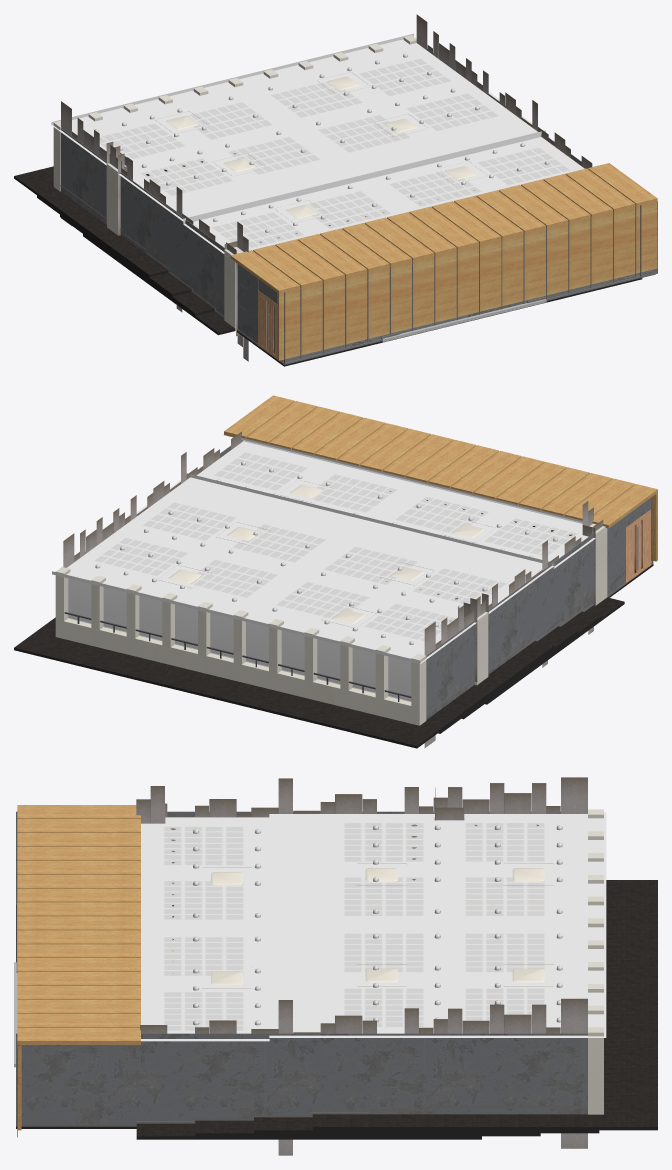
File: classroom-new.fbx
3 views of the same model, one above another, from view 1: azimuth 30°, elevation 25°; view 2: azimuth 150°, elevation 25°; view 3: azimuth 270°, elevation 25° (orthographic). The views are drawn at different scales.
Visible parts, largest first — view 1: ceiling, front_ceiling, side_wall, floor, pillars, wall_mat_R, metal_molding, wall_mat_L, front_wall, air_con, lights, door_acc; view 2: ceiling, front_ceiling, pillars, floor, side_wall, blind, wall_mat_R, wall_mat_L, air_con, door_acc, lights; view 3: ceiling, side_wall, front_ceiling, floor, wall_mat_R, wall_mat_L, air_con, pillars, metal_molding, lights.
Boxes of the visible parts, x1,y1,x2,y2 form: ceiling: [51, 33, 584, 253]; front_ceiling: [230, 163, 657, 360]; side_wall: [60, 49, 641, 364]; floor: [14, 161, 642, 366]; pillars: [53, 35, 416, 331]; wall_mat_R: [61, 101, 248, 361]; metal_molding: [60, 185, 640, 364]; wall_mat_L: [416, 14, 592, 168]; front_wall: [283, 240, 655, 364]; air_con: [155, 72, 483, 222]; lights: [95, 53, 549, 232]; door_acc: [258, 290, 283, 363]; ceiling: [52, 437, 605, 664]; front_ceiling: [224, 395, 657, 561]; pillars: [55, 524, 607, 725]; floor: [14, 561, 653, 748]; side_wall: [85, 440, 652, 719]; blind: [68, 578, 411, 701]; wall_mat_R: [424, 501, 603, 747]; wall_mat_L: [63, 431, 241, 567]; air_con: [158, 481, 491, 627]; door_acc: [626, 509, 651, 583]; lights: [95, 461, 557, 644]; ceiling: [141, 812, 606, 1041]; side_wall: [16, 811, 587, 1126]; front_ceiling: [17, 805, 140, 1130]; floor: [14, 880, 657, 1139]; wall_mat_R: [136, 777, 587, 895]; wall_mat_L: [140, 998, 587, 1155]; air_con: [202, 863, 553, 988]; pillars: [588, 809, 603, 1114]; metal_molding: [16, 817, 587, 1126]; lights: [193, 825, 562, 1025].
Size of the model in its own units: 2551 by 823 by 2811.
